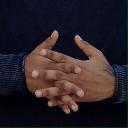hand: (32, 34, 117, 106), (24, 30, 84, 114)
